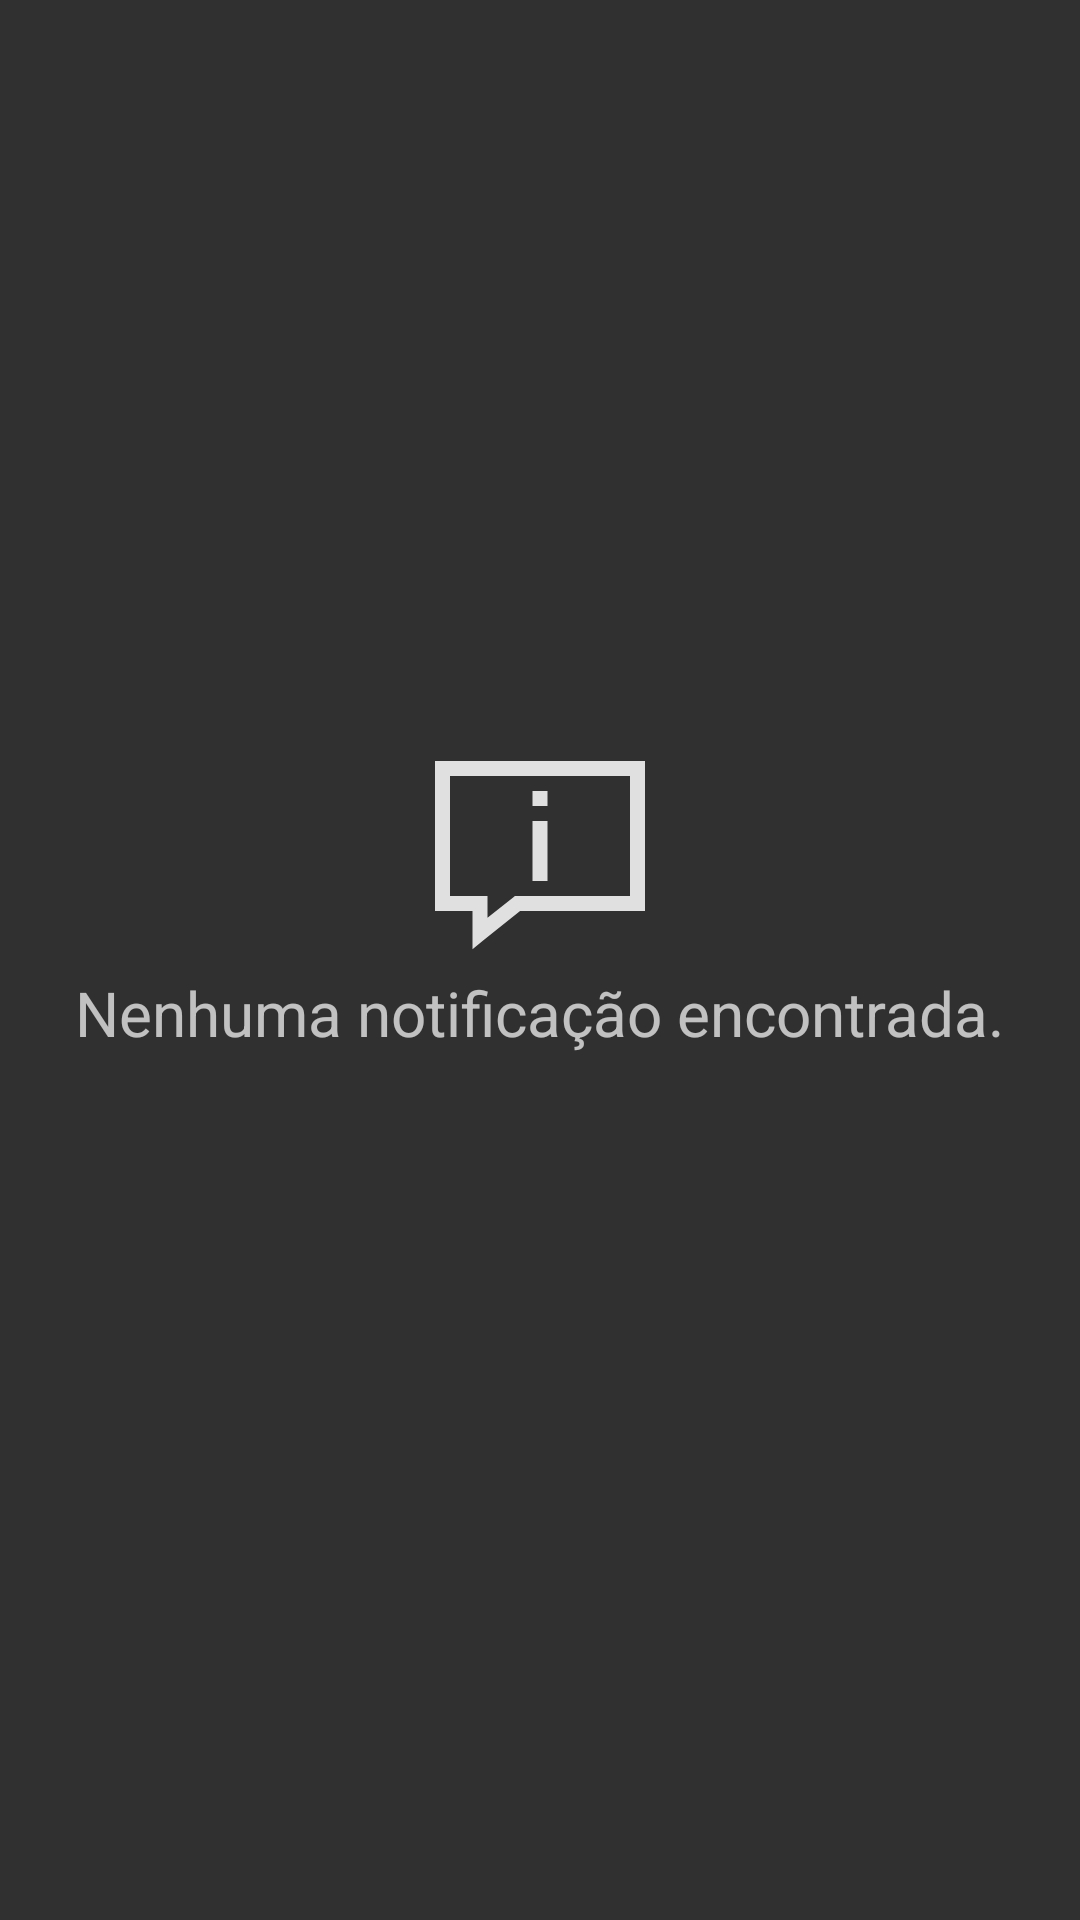

Icon bounding boxes for this 1080*1920 phone screenshot, format (x1, y1, x2, y2):
informacao: (435, 761, 645, 949)
